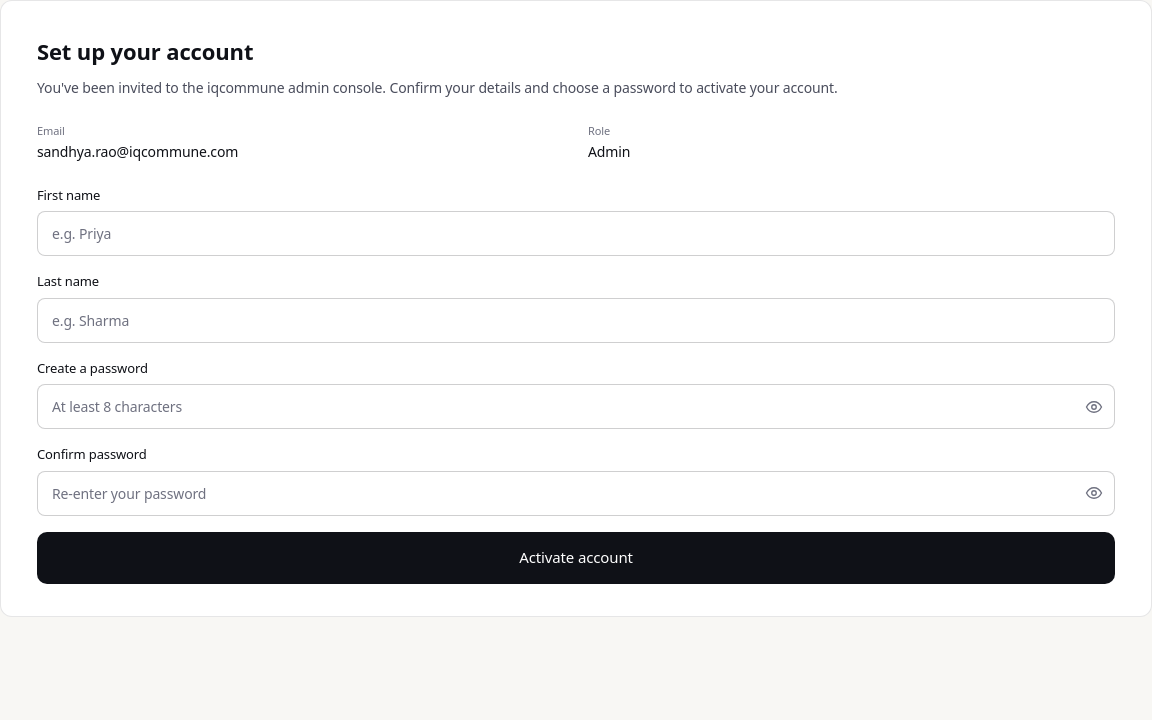
Scenario: AccountSetupForm › rejects a missing first name
Type "Sharma" into the field labelled "Last name".
click(576, 320); type("Sharma")  # box [37,298,1115,343]
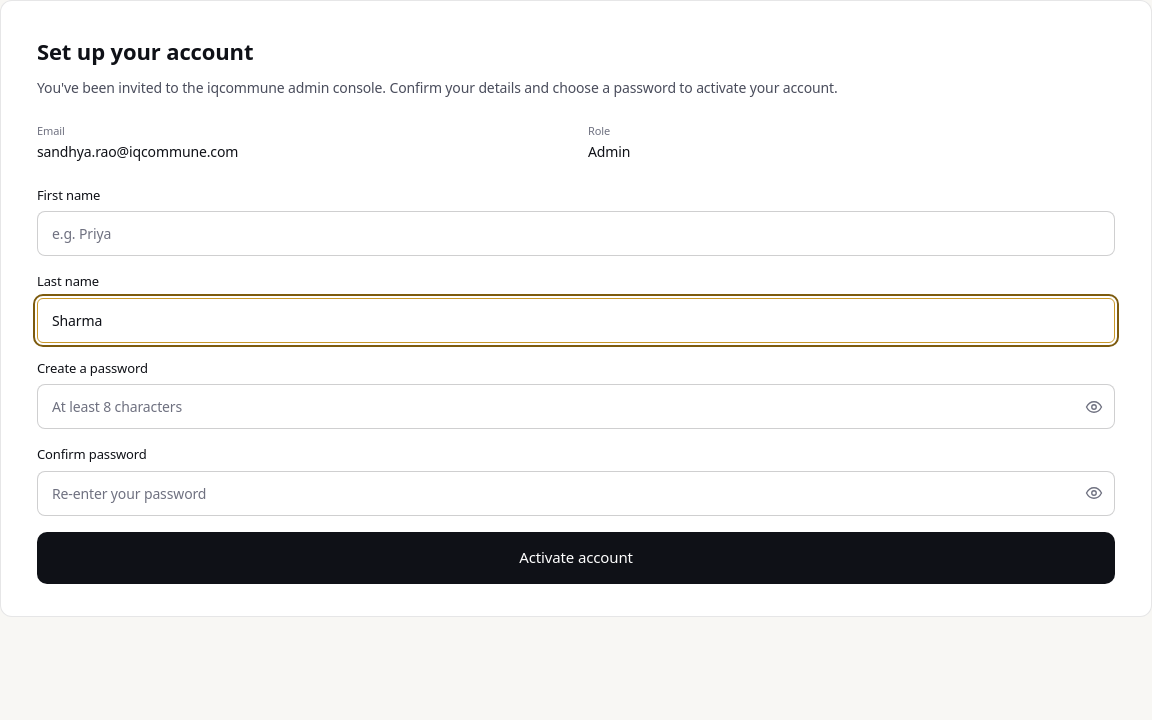
Click the button "Activate account".
click(576, 558)  # box [37,532,1115,584]
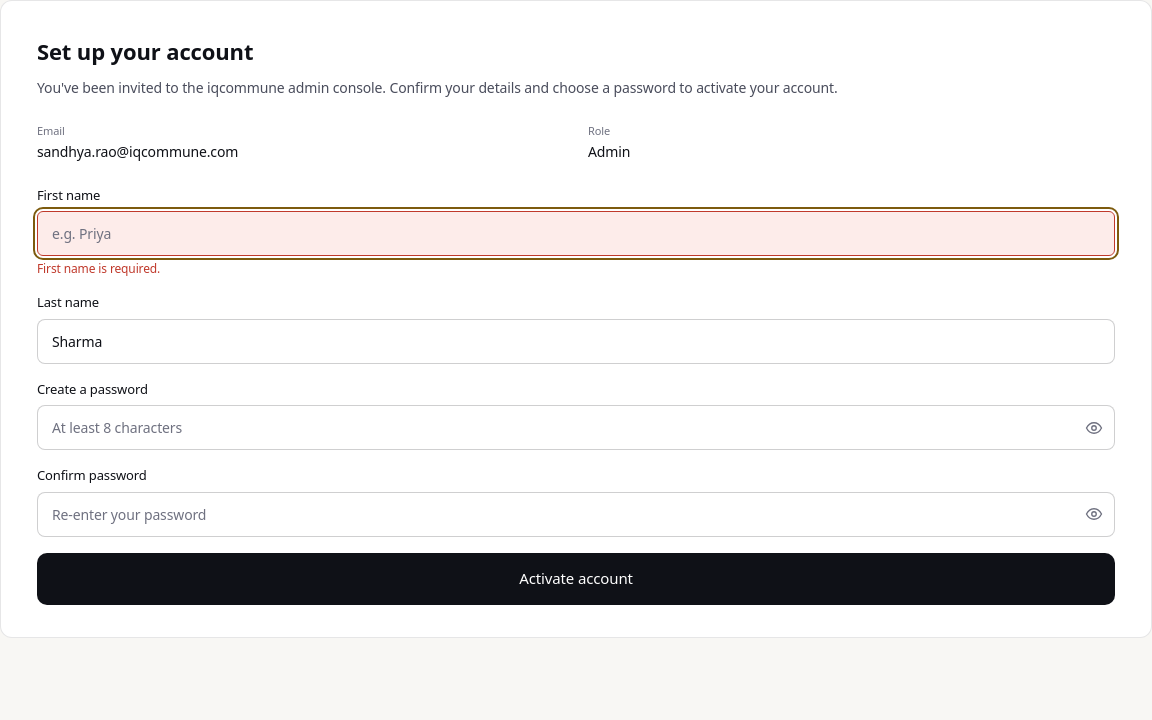
Expected: the text "First name is required." is shown, [37,260,160,277]
